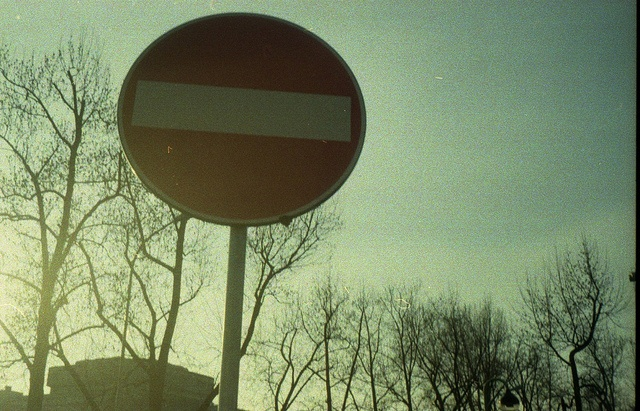stop sign: (117, 12, 483, 238)
